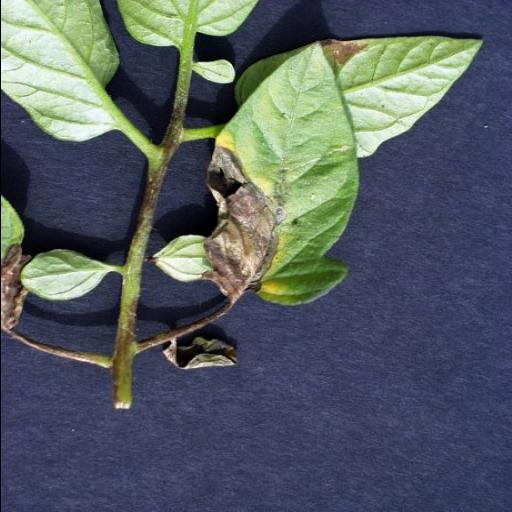Late Blight: (154, 38, 360, 316)
